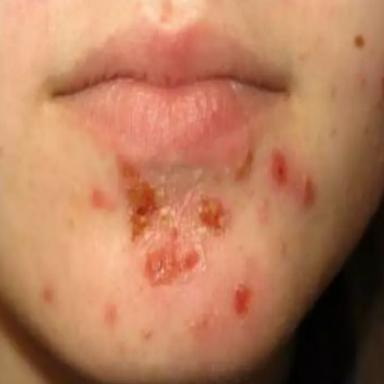Impetigo: (121, 163, 230, 285)
